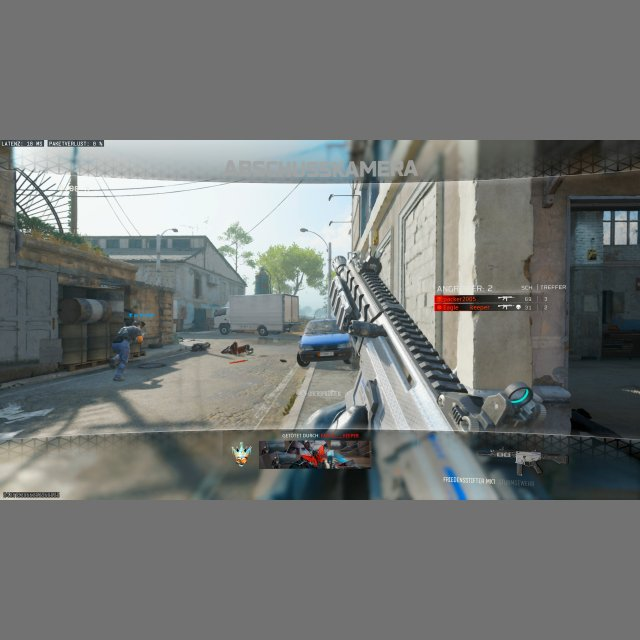head: (134, 320, 145, 329)
player: (110, 319, 145, 382)
